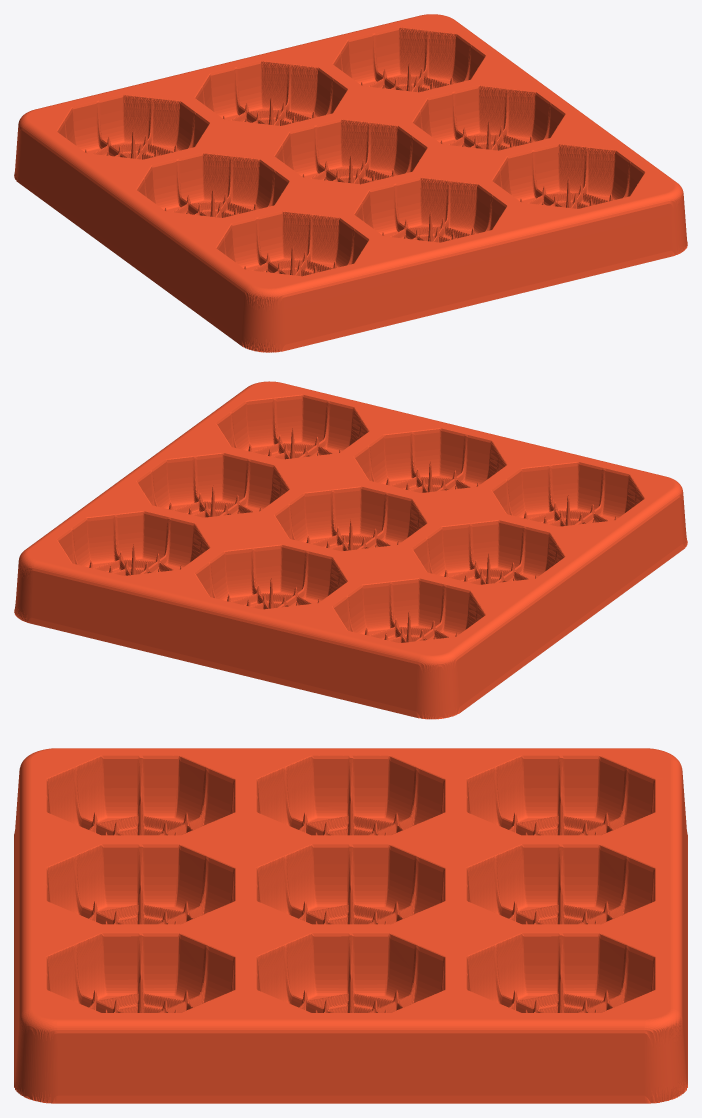
File: mold.glb
3 views of the same model, one above another, from view 1: azimuth 30°, elevation 25°; view 2: azimuth 150°, elevation 25°; view 3: azimuth 270°, elevation 25° (orthographic). The views are drawn at different scales.
Visible parts, largest first — view 1: geometry_0; view 2: geometry_0; view 3: geometry_0.
Part boxes in pixels (x1,y1,x2,y2): geometry_0: [14, 14, 687, 352]; geometry_0: [14, 381, 687, 719]; geometry_0: [14, 748, 687, 1103].
Size of the model in its own units: 0.1387 by 0.0175 by 0.1387.
